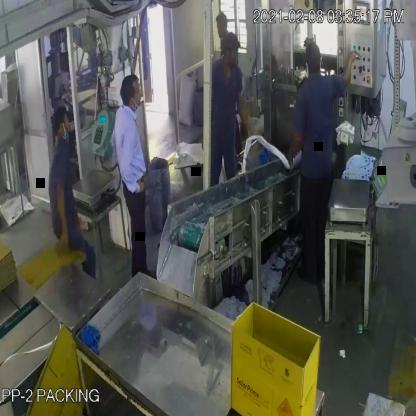no_glove: (117, 131, 148, 207), (53, 160, 74, 266), (238, 78, 263, 151), (334, 47, 362, 97), (279, 119, 300, 167)
